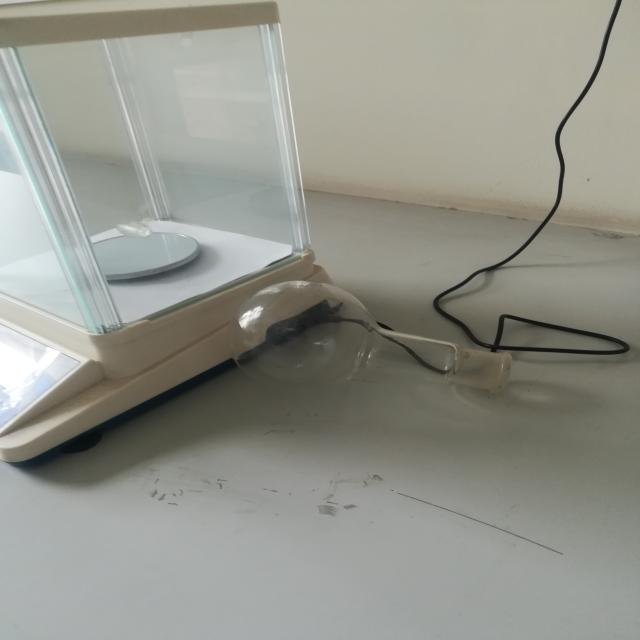Round_Bottom_Flask_Borosilicate_Glass_1_Neck: (204, 241, 542, 436)
